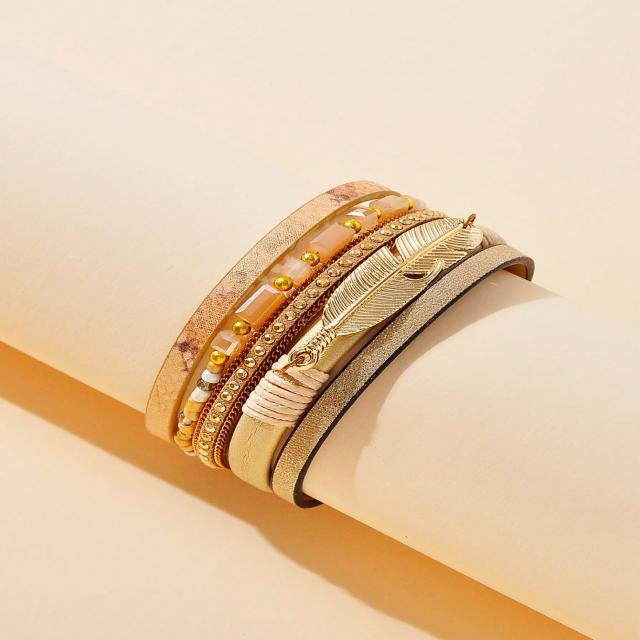bracelet: (91, 131, 582, 563)
